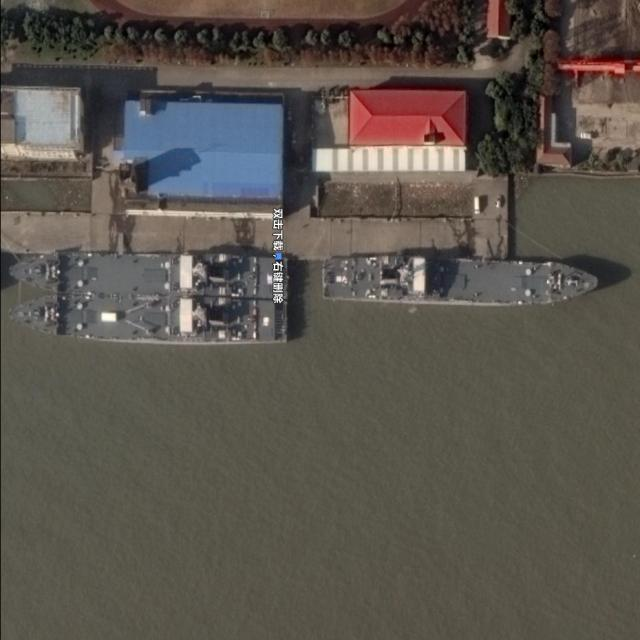Landing: (321, 257, 602, 306), (5, 292, 284, 340), (9, 250, 284, 298)
